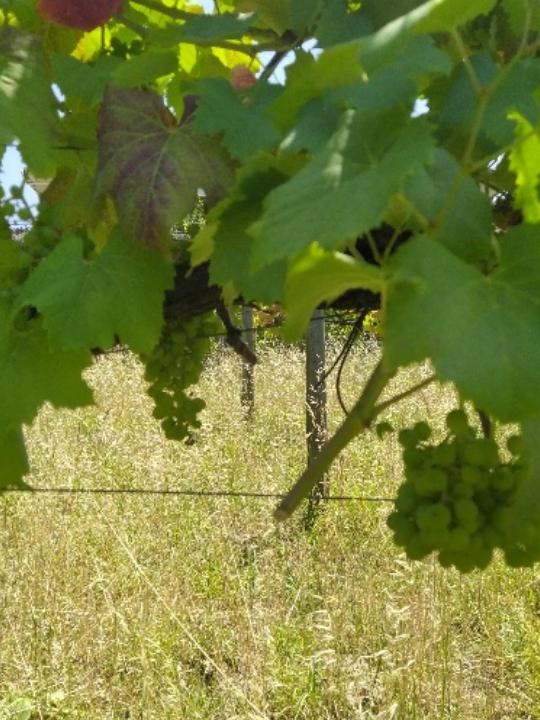grape: (382, 409, 540, 577), (138, 311, 224, 459)
